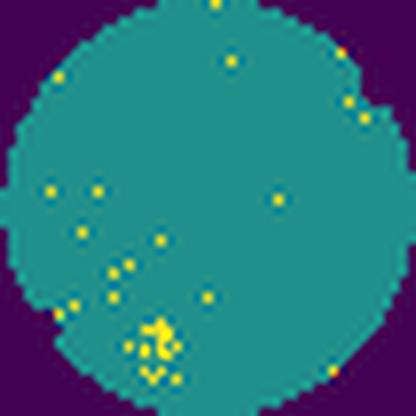Loc: (136, 312, 184, 365)
